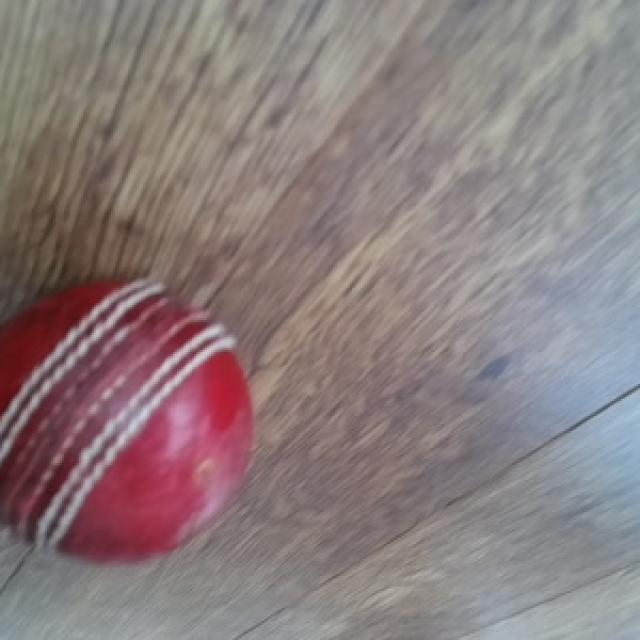ball: (0, 279, 258, 572)
